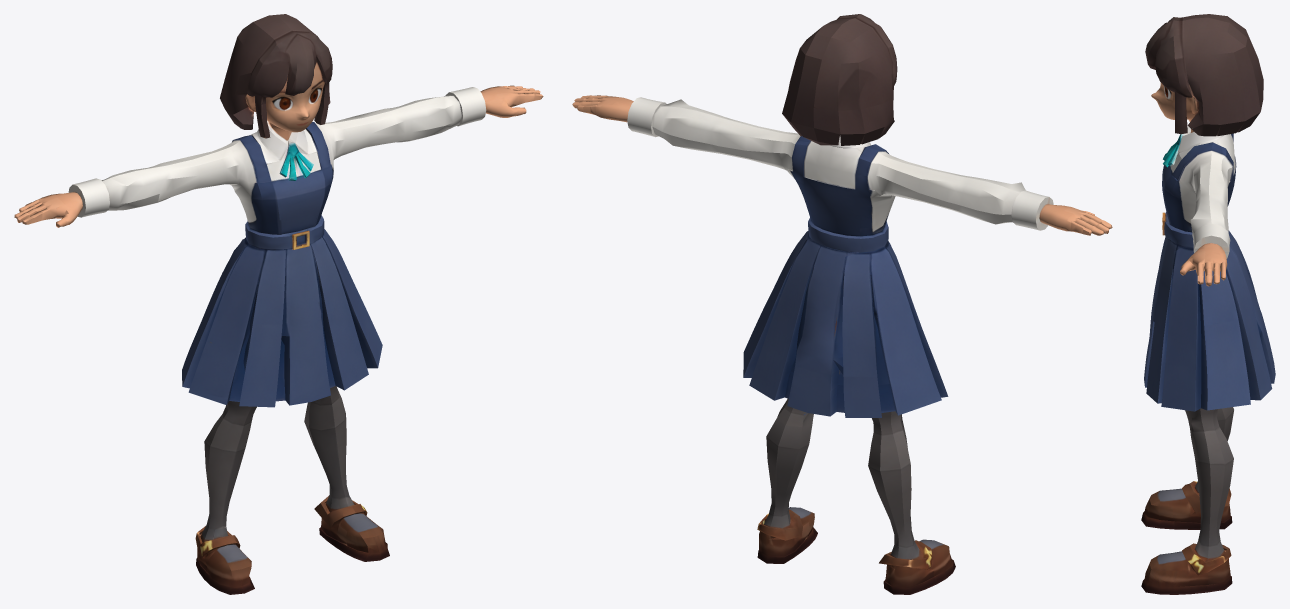
File: female_uniform.obj
The picture shows the model from 3 angles, left to right: view 1: azimuth 30°, elevation 25°; view 2: azimuth 150°, elevation 25°; view 3: azimuth 270°, elevation 25°; orthographic projection. The views are drawn at different scales.
Visible parts, largest first — view 1: model; view 2: model; view 3: model.
Boxes of the visible parts, x1,y1,x2,y2 form: model: [14, 14, 543, 594]; model: [572, 14, 1112, 594]; model: [1141, 14, 1275, 594].
Bounding box in the file's own units: 1.73 × 1.69 × 0.385.
Materials: 1 (1 with a texture image).
